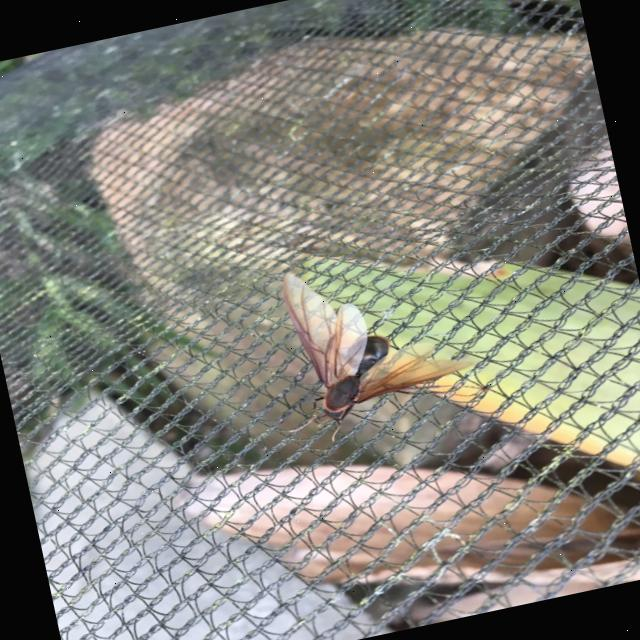Alive-Female-Alate: (255, 236, 488, 452)
